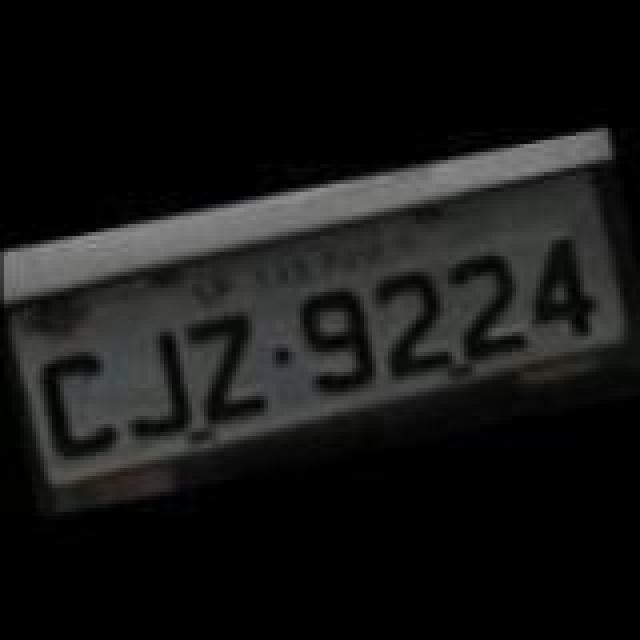2: (356, 262, 448, 370), (448, 244, 532, 348)
4: (512, 226, 604, 350)
9: (288, 276, 380, 400)
C: (26, 344, 118, 464)
J: (114, 322, 198, 434)
Z: (182, 304, 270, 424)
